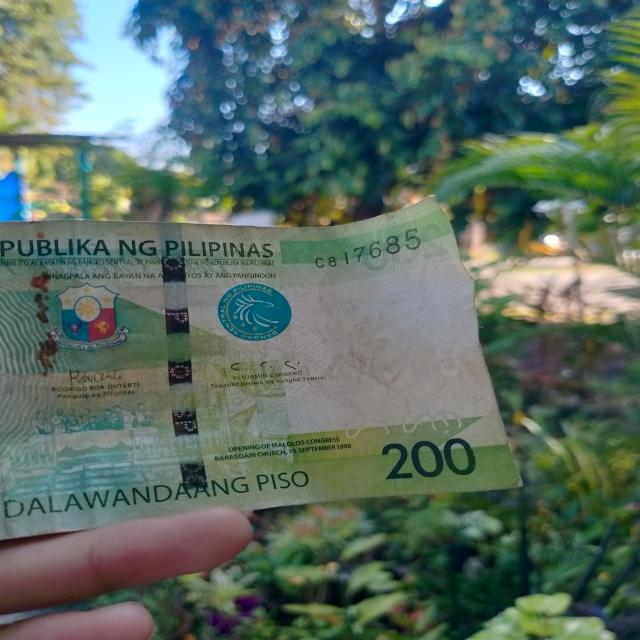security_thread: (158, 222, 211, 509)
see_through_mark: (324, 410, 475, 444)
serial_number: (306, 227, 433, 275)
watermark: (308, 257, 438, 414)
